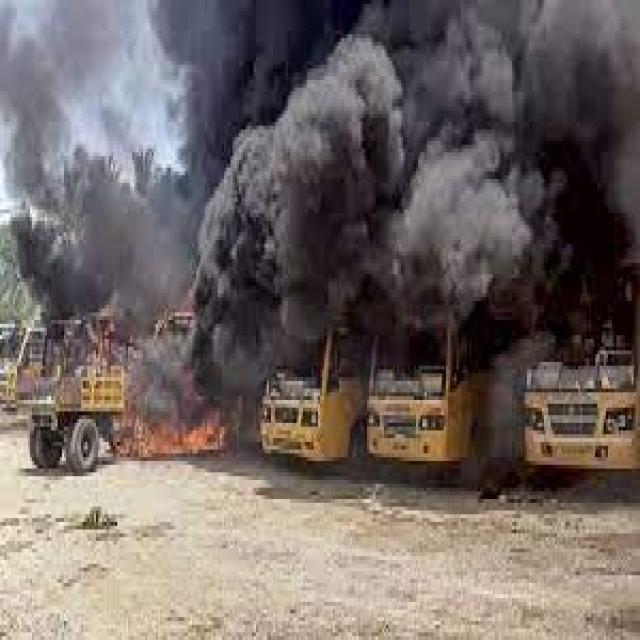Fire: (132, 410, 226, 456)
Smoke: (0, 0, 640, 348), (132, 347, 272, 417), (471, 348, 523, 472)
